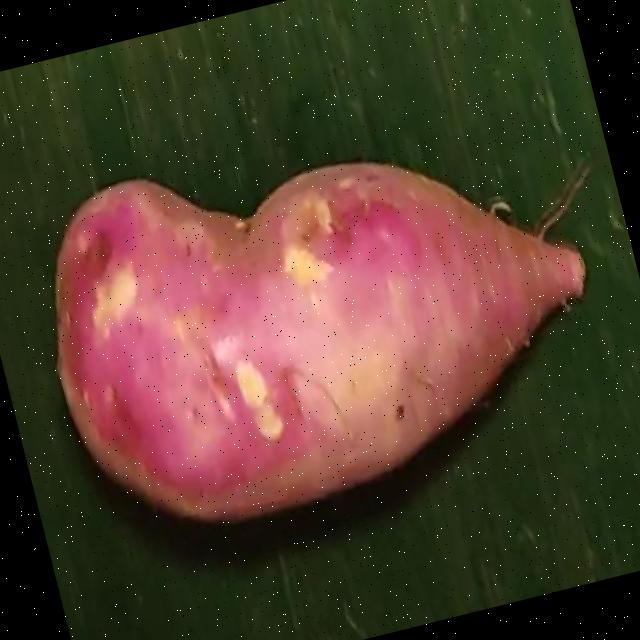Sweet Potato: (55, 157, 583, 521)
